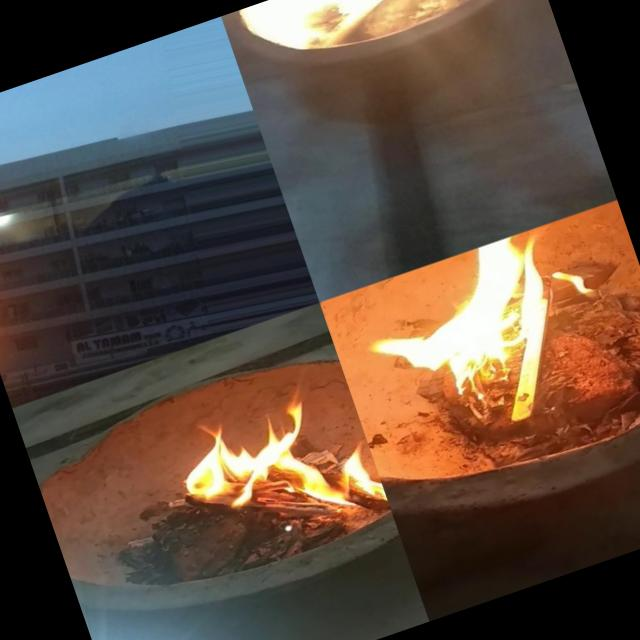fire: (364, 223, 602, 437), (150, 364, 386, 564), (281, 0, 467, 38)
